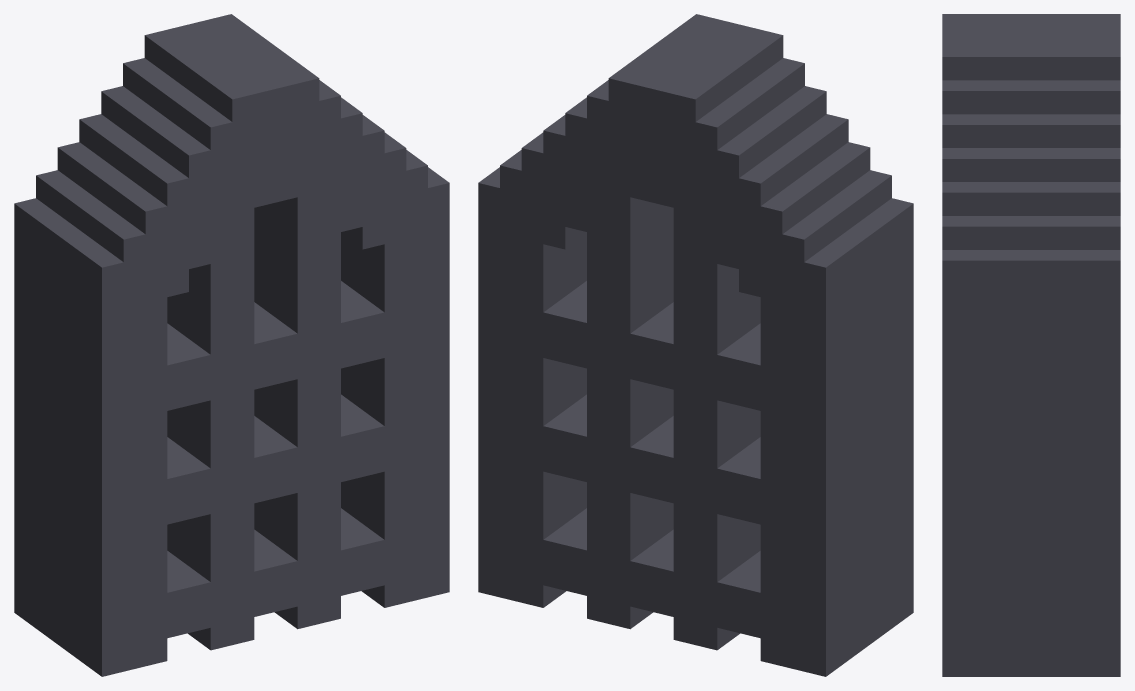
File: Door.obj
3 renders of one model, left to right at view 1: azimuth 30°, elevation 25°; view 2: azimuth 150°, elevation 25°; view 3: azimuth 270°, elevation 25°, orthographic.
Bounding box in the file's own units: 1.6 × 2.4 × 0.7.
Materials: 1 (1 with a texture image).
